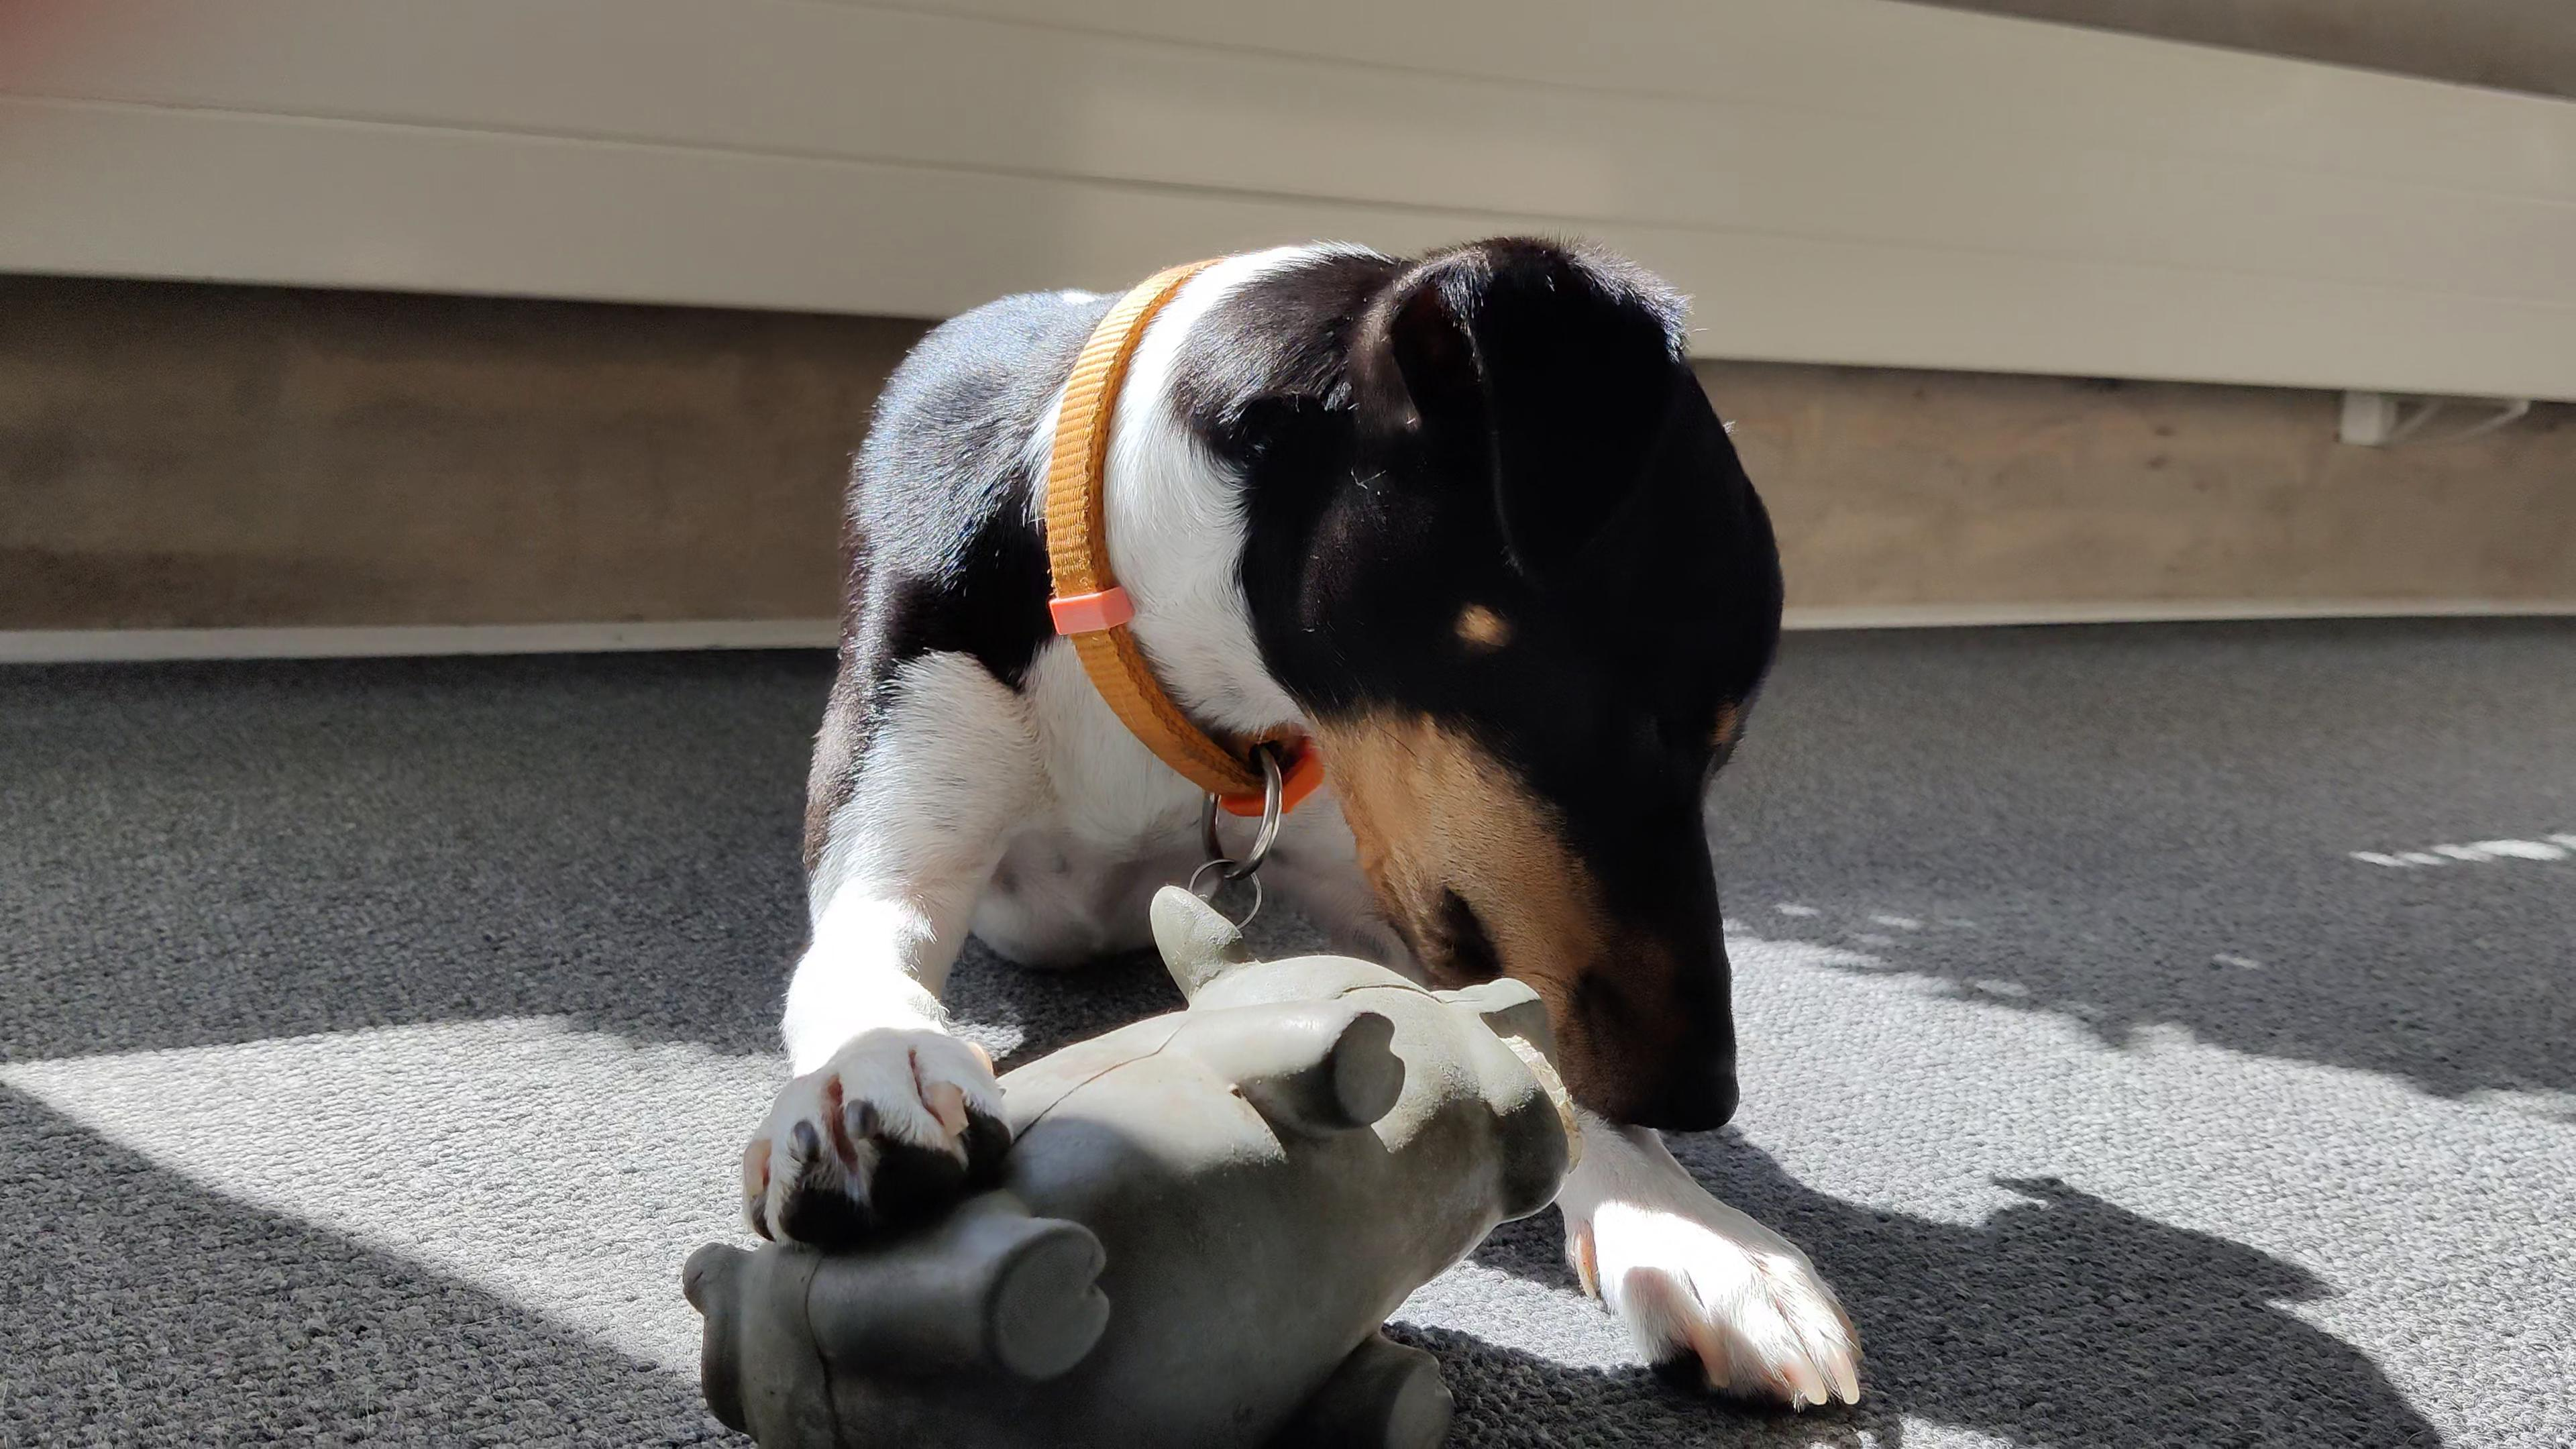Dog: (718, 205, 1902, 1424)
